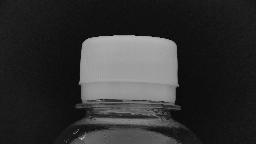Good Cap: (72, 33, 184, 115)
